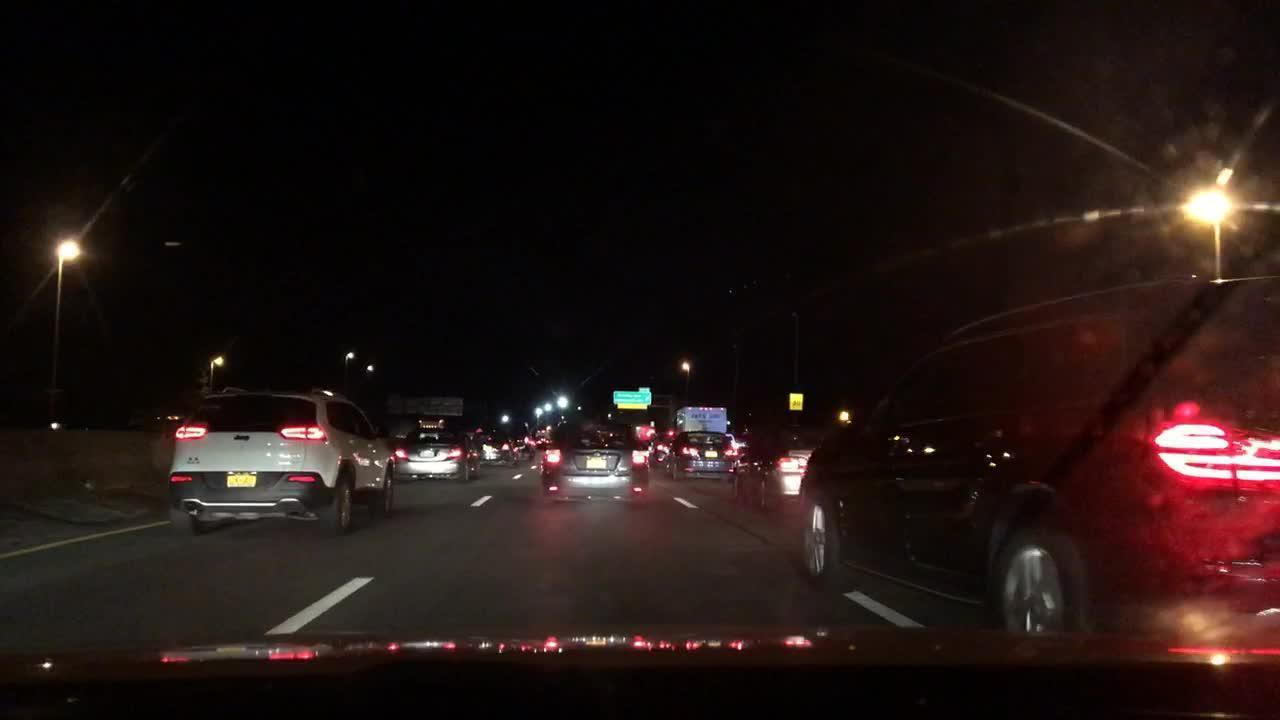jeep: (229, 429, 258, 446)
